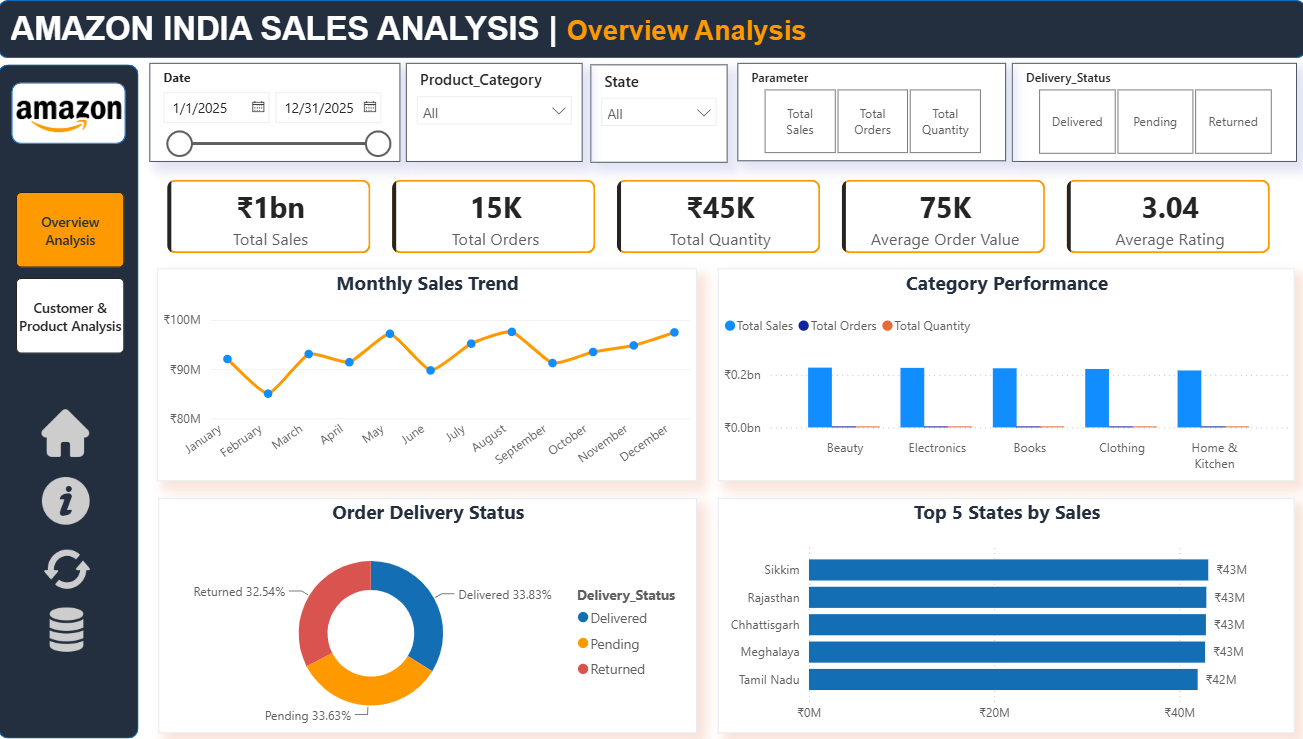

This screenshot's page, from the dashboard's own definition file:
{"tool":"powerbi","page":{"name":"Overview Analysis","canvas":[1280,723],"ordinal":0},"visuals":[{"type":"shape","box":[0,0,1280,56.9],"z":0},{"type":"shape","box":[13.3,80,111.7,60],"z":0,"group":"g1"},{"type":"textbox","box":[7.6,4.5,1235.6,53],"z":1000},{"type":"image","box":[18.3,68.3,103.3,90],"z":1000,"group":"g1"},{"type":"shape","box":[0,62.5,137.5,659.4],"z":2000},{"type":"cardVisual","fields":{"Data":["Amazon_Sales.Total Sales","Amazon_Sales.Total Orders","Amazon_Sales.Total Quantity","Amazon_Sales.Average Order Value","Amazon_Sales.Average Rating"]},"box":[147.7,158.2,1114,106],"z":3000},{"type":"slicer","fields":{"Values":["Amazon_Sales.Date"]},"box":[147.5,62.1,245,96.7],"z":4000},{"type":"slicer","fields":{"Values":["Amazon_Sales.State"]},"box":[580.4,62.5,133.8,96.2],"z":5000},{"type":"slicer","fields":{"Values":["Amazon_Sales.Delivery_Status"]},"box":[991.7,61.2,278.3,96.7],"z":6000},{"type":"lineChart","title":"Monthly Sales Trend","fields":{"Y":["Amazon_Sales.Total Sales"],"Category":["Amazon_Sales.Date.Variation.Date Hierarchy.Month"]},"box":[155.7,262.5,528.1,207.8],"z":7000},{"type":"clusteredColumnChart","title":"Category Performance","fields":{"Y":["Amazon_Sales.Total Sales","Amazon_Sales.Total Orders","Amazon_Sales.Total Quantity"],"Category":["Amazon_Sales.Product_Category"]},"box":[704.2,262.5,564.1,207.8],"z":8000},{"type":"donutChart","title":"Order Delivery Status","fields":{"Category":["Amazon_Sales.Delivery_Status"],"Y":["Amazon_Sales.Total Orders"]},"box":[157.3,487.5,526.6,229.7],"z":9000},{"type":"clusteredBarChart","title":" Top 5 States by Sales","fields":{"Category":["Amazon_Sales.State"],"Y":["Amazon_Sales.Total Sales"]},"box":[704.2,487.5,564.1,229.7],"z":10000},{"type":"slicer","fields":{"Values":["Amazon_Sales.Product_Category"]},"box":[399.2,62.1,172.5,96.7],"z":11000},{"type":"slicer","fields":{"Values":["Parameter.Parameter"]},"box":[724.2,61.2,262.5,96.2],"z":12000},{"type":"image","box":[42.8,397.8,46.7,51.7],"z":13000},{"type":"image","box":[39.4,466.1,53.3,46.7],"z":14000},{"type":"image","box":[42.8,534.4,50,45],"z":15000},{"type":"image","box":[36.7,595,60,43.3],"z":16000},{"type":"pageNavigator","box":[18.3,188.3,106.7,158.3],"z":18000},{"type":"group","id":"g1","title":"Group 1","box":[13.3,68.3,111.7,90],"z":21002}]}

Visuals, with their boxes in screenshot pixels (x1, y1, x2, y2), scaled from the page's 1280x723 canvas onto the 1303x739 screenshot:
shape: x1=0 y1=0 x2=1302 y2=58
shape: x1=14 y1=82 x2=127 y2=143
textbox: x1=8 y1=5 x2=1266 y2=59
image: x1=19 y1=70 x2=124 y2=162
shape: x1=0 y1=64 x2=140 y2=738
cardVisual - Amazon_Sales.Total Sales x Amazon_Sales.Total Orders: x1=150 y1=162 x2=1284 y2=270
slicer - Amazon_Sales.Date: x1=150 y1=63 x2=400 y2=162
slicer - Amazon_Sales.State: x1=591 y1=64 x2=727 y2=162
slicer - Amazon_Sales.Delivery_Status: x1=1010 y1=63 x2=1293 y2=161
"Monthly Sales Trend" lineChart: x1=158 y1=268 x2=696 y2=481
"Category Performance" clusteredColumnChart: x1=717 y1=268 x2=1291 y2=481
"Order Delivery Status" donutChart: x1=160 y1=498 x2=696 y2=733
" Top 5 States by Sales" clusteredBarChart: x1=717 y1=498 x2=1291 y2=733
slicer - Amazon_Sales.Product_Category: x1=406 y1=63 x2=582 y2=162
slicer - Parameter.Parameter: x1=737 y1=63 x2=1004 y2=161
image: x1=44 y1=407 x2=91 y2=459
image: x1=40 y1=476 x2=94 y2=524
image: x1=44 y1=546 x2=94 y2=592
image: x1=37 y1=608 x2=98 y2=652
pageNavigator: x1=19 y1=192 x2=127 y2=354
"Group 1" group: x1=14 y1=70 x2=127 y2=162
